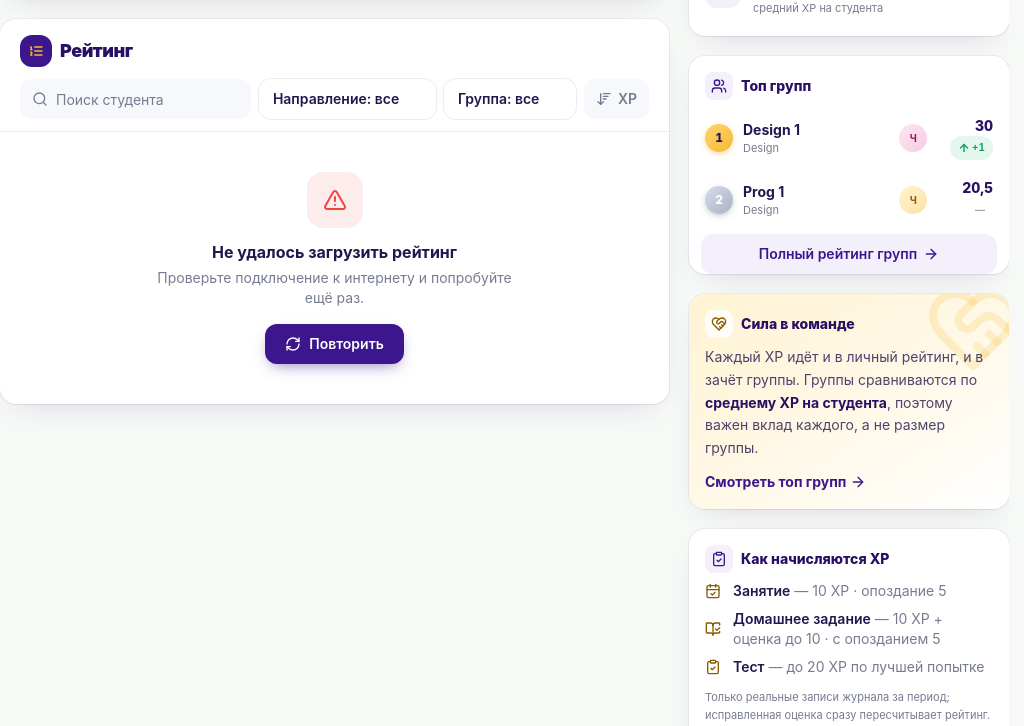
Scenario: Топ студентов › shows an error with a working retry
(page scrolled)
Check: the text "Не удалось загрузить рейтинг" is shown, box [212,240,457,264]
Click the button "Повторить": (334, 344) [265,324,404,364]
(page scrolled)
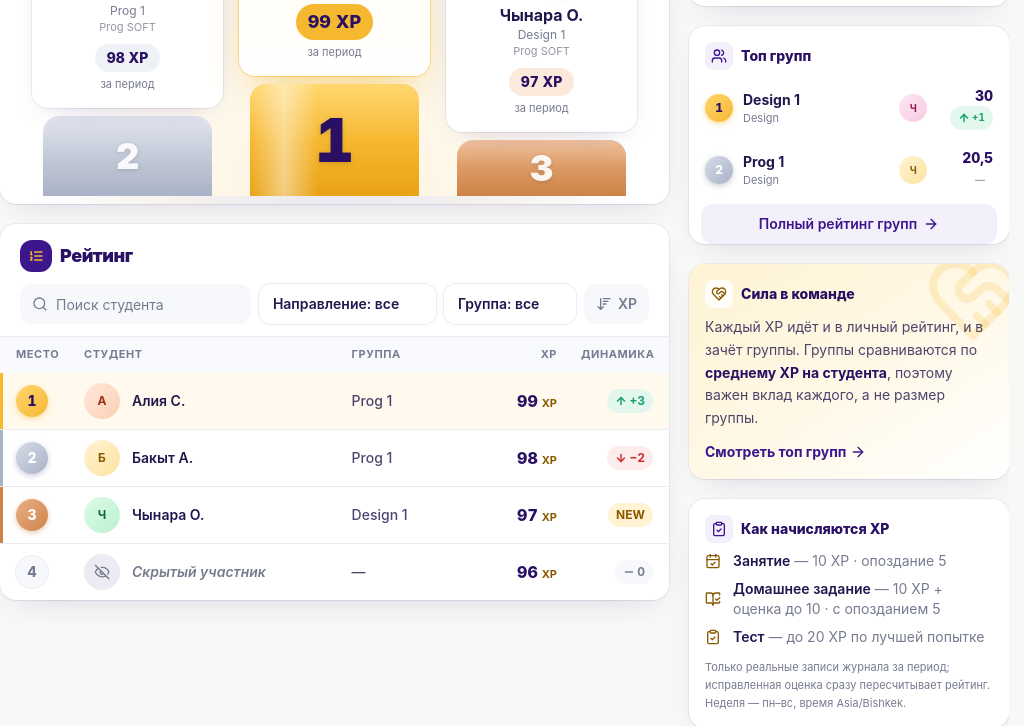
Check: the table is shown, box [0,337,669,600]
